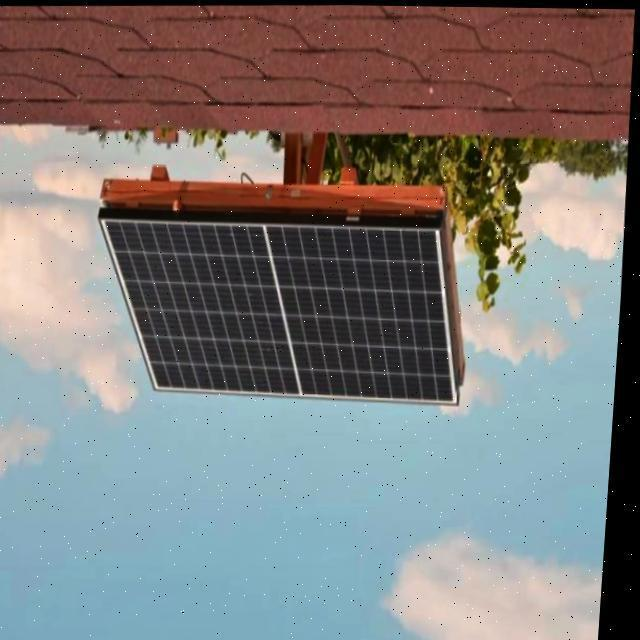Normal Solar Panel: (92, 203, 474, 409)
